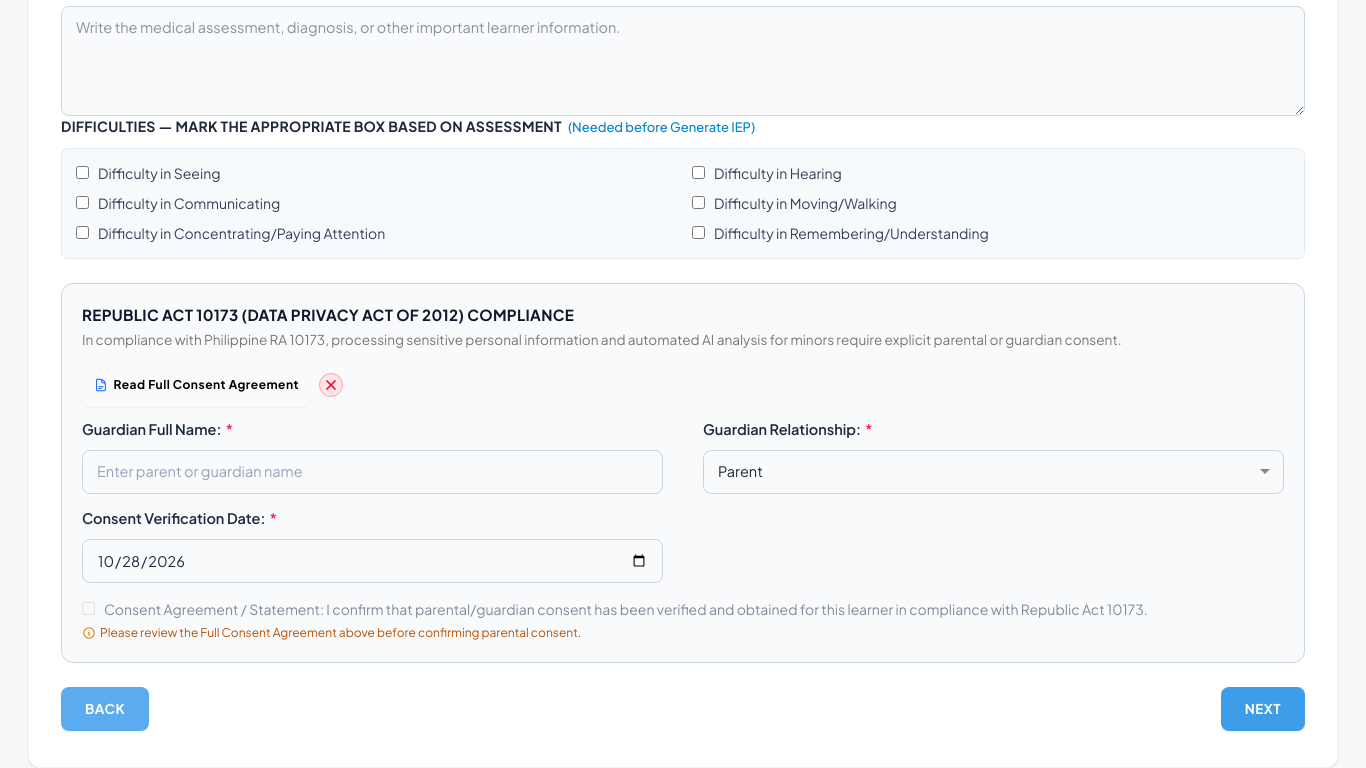
Test: CreateStudentProfile next-step actions › disables RA 10173 checkbox initially, opens modal, and unlocks checkbox upon agreement confirmation
The width and height of the screenshot is (1366, 768).
(page scrolled)
Expected: the picture named "agreement not reviewed" is shown, [319,373,343,397]
Expected: the checkbox labelled "Consent Agreement / Statement" is disabled, [82,602,95,615]
Click the button "Read Full Consent Agreement" at (196, 385), box [82,363,311,407]
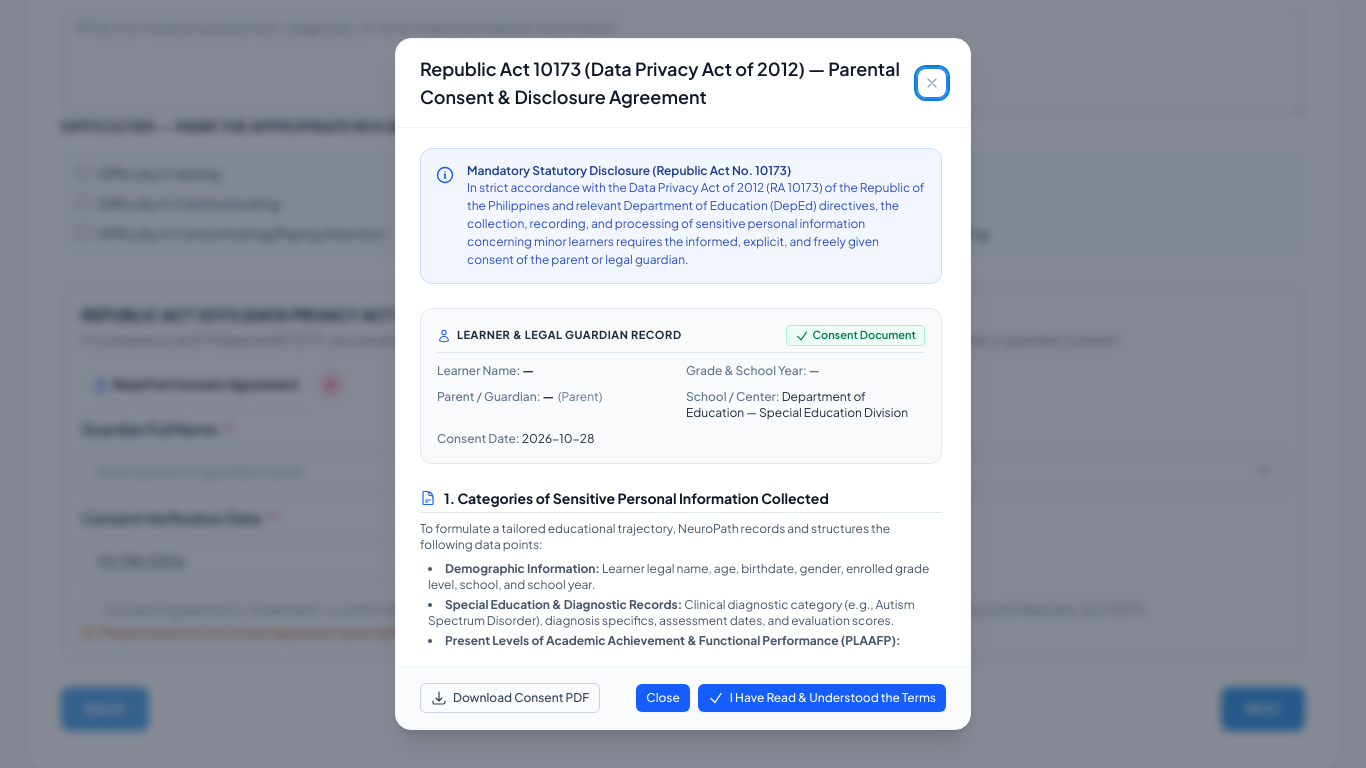
Result: the heading named "Parental Consent & Disclosure Agreement" is shown at [420,55,906,111]
Click the button "I Have Read & Understood the Terms" at (822, 698), box [698,684,946,712]
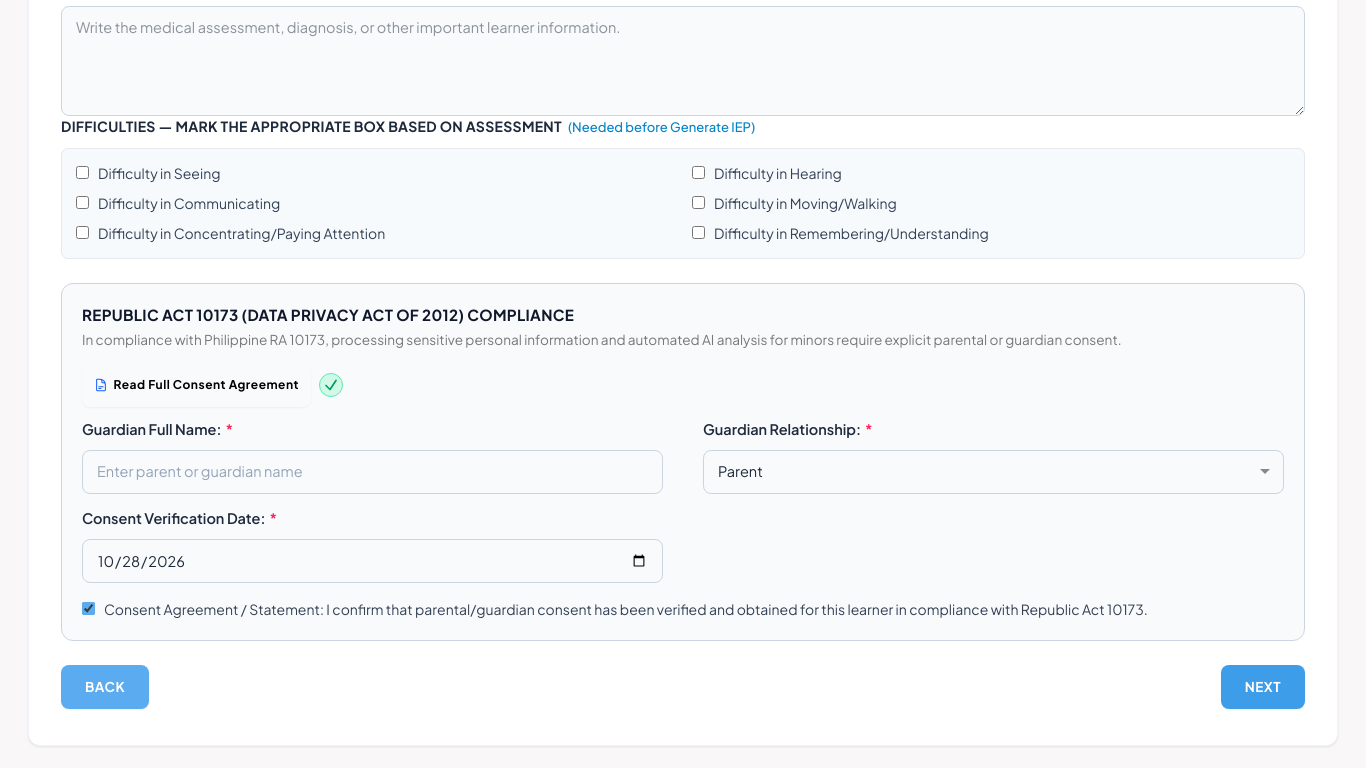
Result: the dialog is gone
Result: the picture named "agreement reviewed" is shown at [319,373,343,397]
Result: the checkbox labelled "Consent Agreement / Statement" is enabled at [82,602,95,615]
